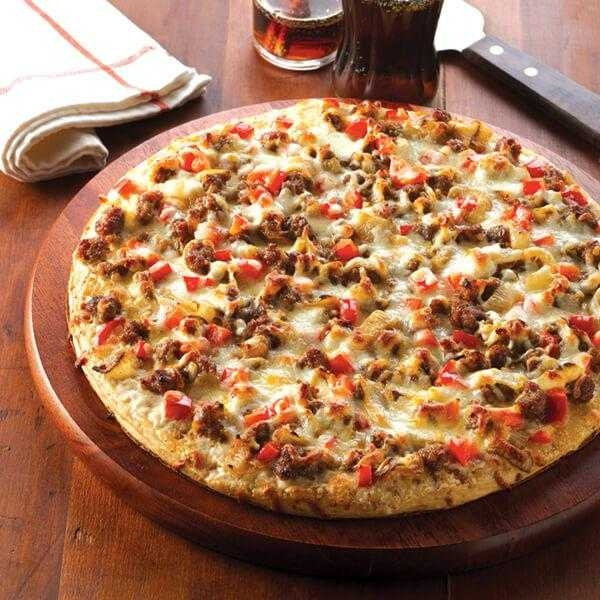pizza: (77, 108, 589, 491)
